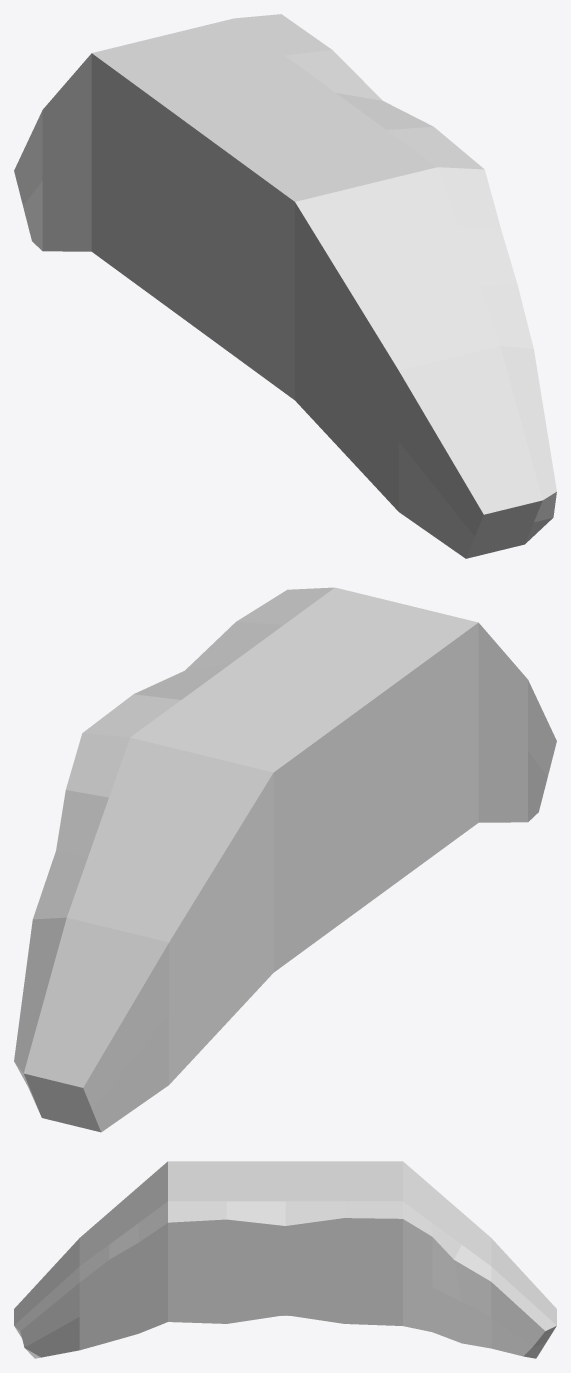
Rendered from Snor.fbx.
3 views of the same model, one above another, from view 1: azimuth 30°, elevation 25°; view 2: azimuth 150°, elevation 25°; view 3: azimuth 270°, elevation 25° (orthographic). The views are drawn at different scales.
Parts seen in each view (by area): view 1: Cube; view 2: Cube; view 3: Cube.
Part boxes in pixels (x1,y1,x2,y2): Cube: (14, 14, 556, 558); Cube: (14, 587, 556, 1132); Cube: (14, 1161, 556, 1358).
Bounding box in the file's own units: 21.94 × 31.6 × 94.08.
1 material, 1 textured.
